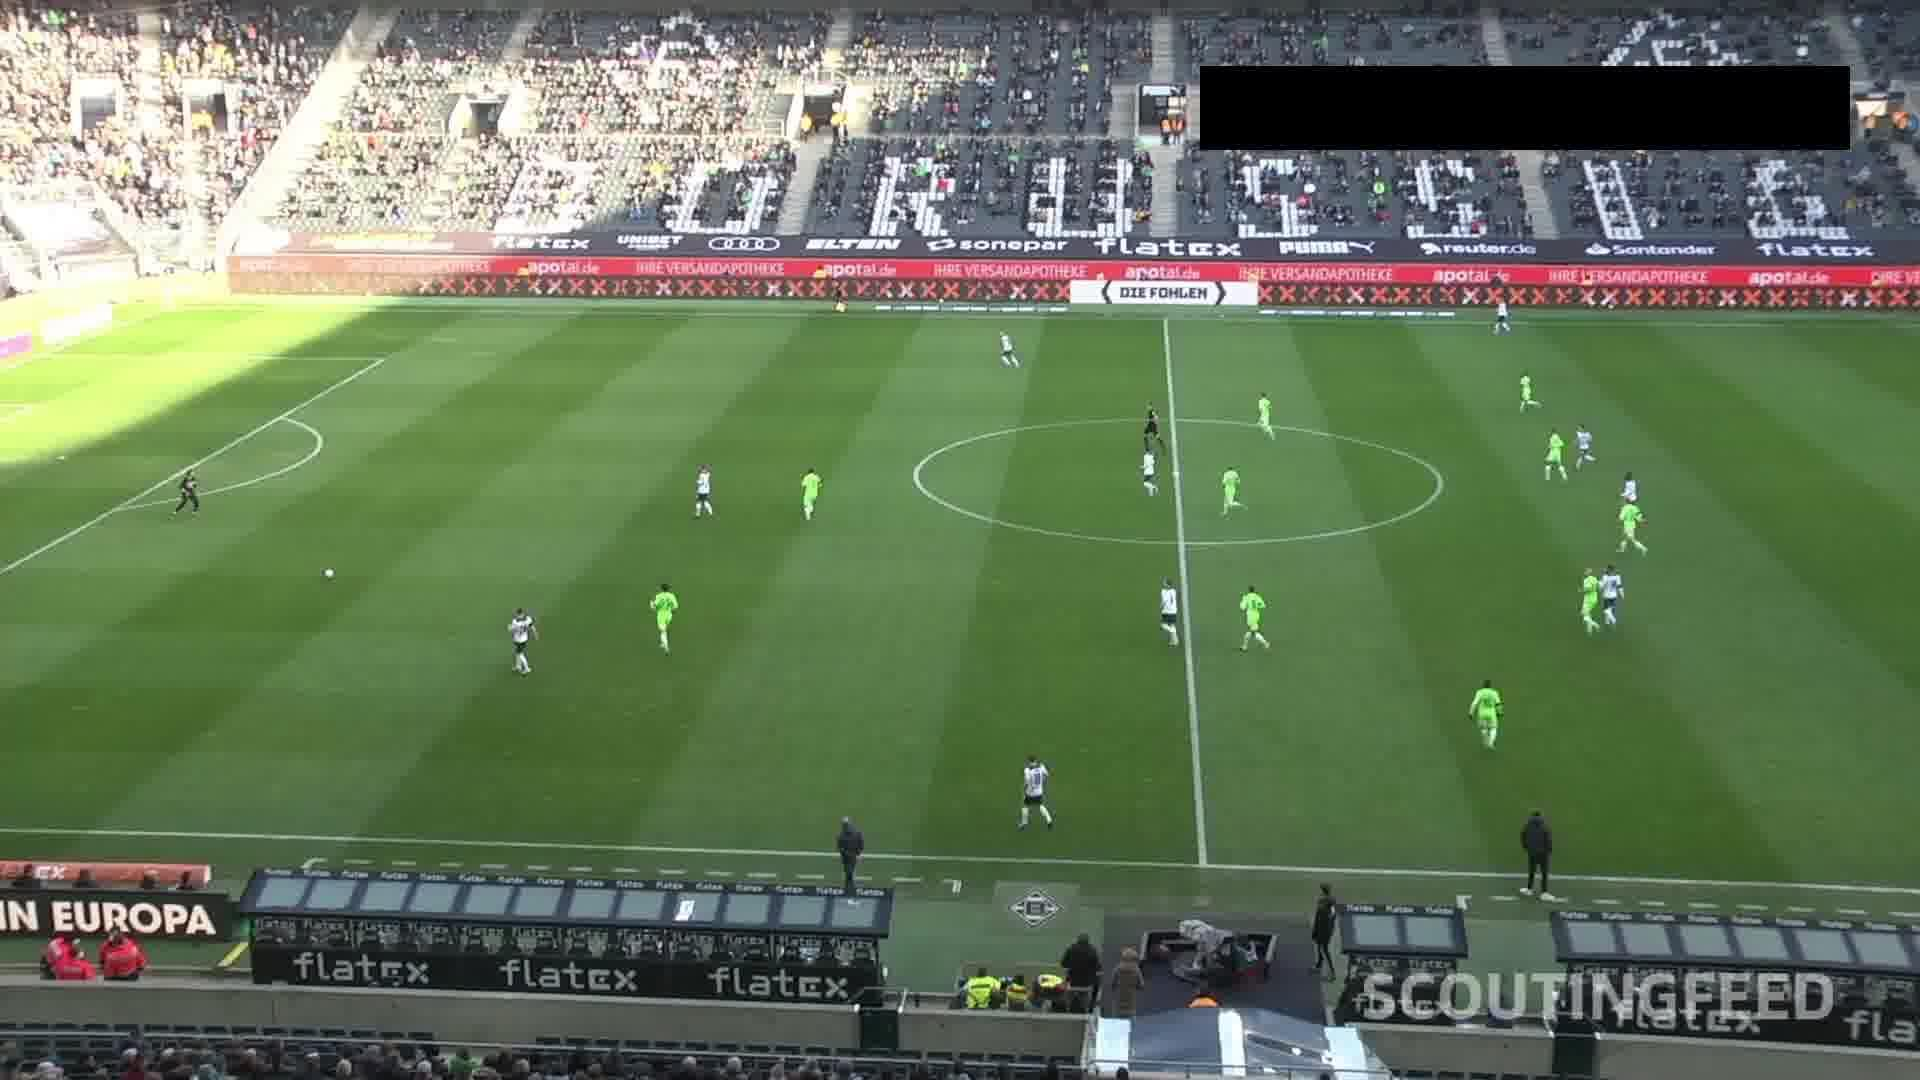football: (320, 568, 336, 582)
